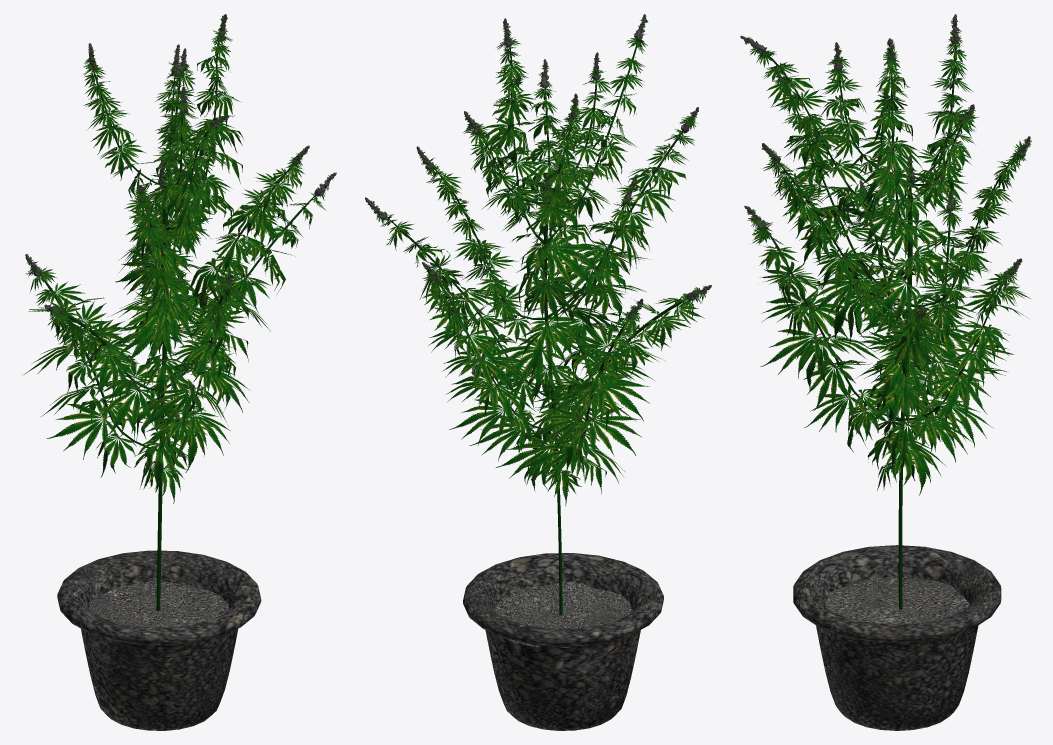
The picture shows the model from 3 angles, left to right: view 1: azimuth 30°, elevation 25°; view 2: azimuth 150°, elevation 25°; view 3: azimuth 270°, elevation 25°; orthographic projection. The views are drawn at different scales.
Parts seen in each view (by area): view 1: 07___Defaultdfd, material_5, earth, cannabis, flower; view 2: 07___Defaultdfd, material_5, earth, cannabis, flower; view 3: 07___Defaultdfd, material_5, earth, cannabis, flower.
Part boxes in pixels (box(x1,y1,x2,y2)): 07___Defaultdfd: box(22, 18, 333, 503); material_5: box(57, 550, 261, 730); earth: box(88, 581, 229, 627); cannabis: box(40, 42, 327, 611); flower: box(25, 14, 336, 315); 07___Defaultdfd: box(370, 19, 708, 506); material_5: box(463, 553, 663, 730); earth: box(494, 581, 632, 647); cannabis: box(387, 40, 694, 615); flower: box(365, 14, 711, 319); 07___Defaultdfd: box(744, 20, 1031, 495); material_5: box(793, 545, 1001, 730); earth: box(826, 577, 969, 624); cannabis: box(765, 25, 1016, 609); flower: box(740, 14, 1030, 318).
Bounding box in the file's own units: 0.3559 × 0.72 × 0.2783.
5 materials, 4 textured.
